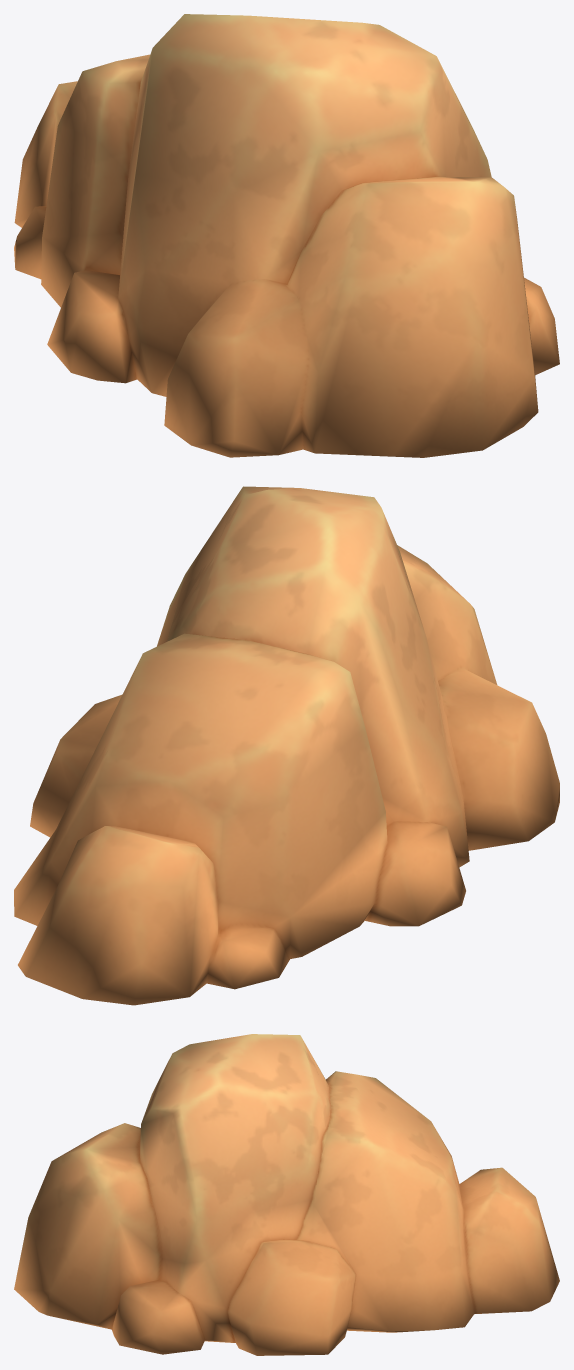
File: rock_1.fbx
3 renders of one model, top to bottom at view 1: azimuth 30°, elevation 25°; view 2: azimuth 150°, elevation 25°; view 3: azimuth 270°, elevation 25°, orthographic. The views are drawn at different scales.
Visible parts, largest first — view 1: Rock_1_LOD0; view 2: Rock_1_LOD0; view 3: Rock_1_LOD0.
Part boxes in pixels (left/top/right/bottom): Rock_1_LOD0: left=14, top=14, right=559, bottom=457; Rock_1_LOD0: left=14, top=486, right=559, bottom=1005; Rock_1_LOD0: left=14, top=1034, right=559, bottom=1355.
Size of what is drawn, in the model's own units: 184 by 145 by 301.
